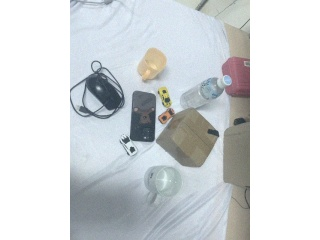bottle: (180, 75, 231, 109)
box: (157, 108, 219, 168)
cup: (144, 165, 183, 198), (137, 47, 167, 82)
mouse: (85, 72, 124, 111)
phone: (131, 89, 155, 144)
toy_car: (119, 134, 138, 156), (158, 87, 172, 109), (158, 108, 175, 124)
